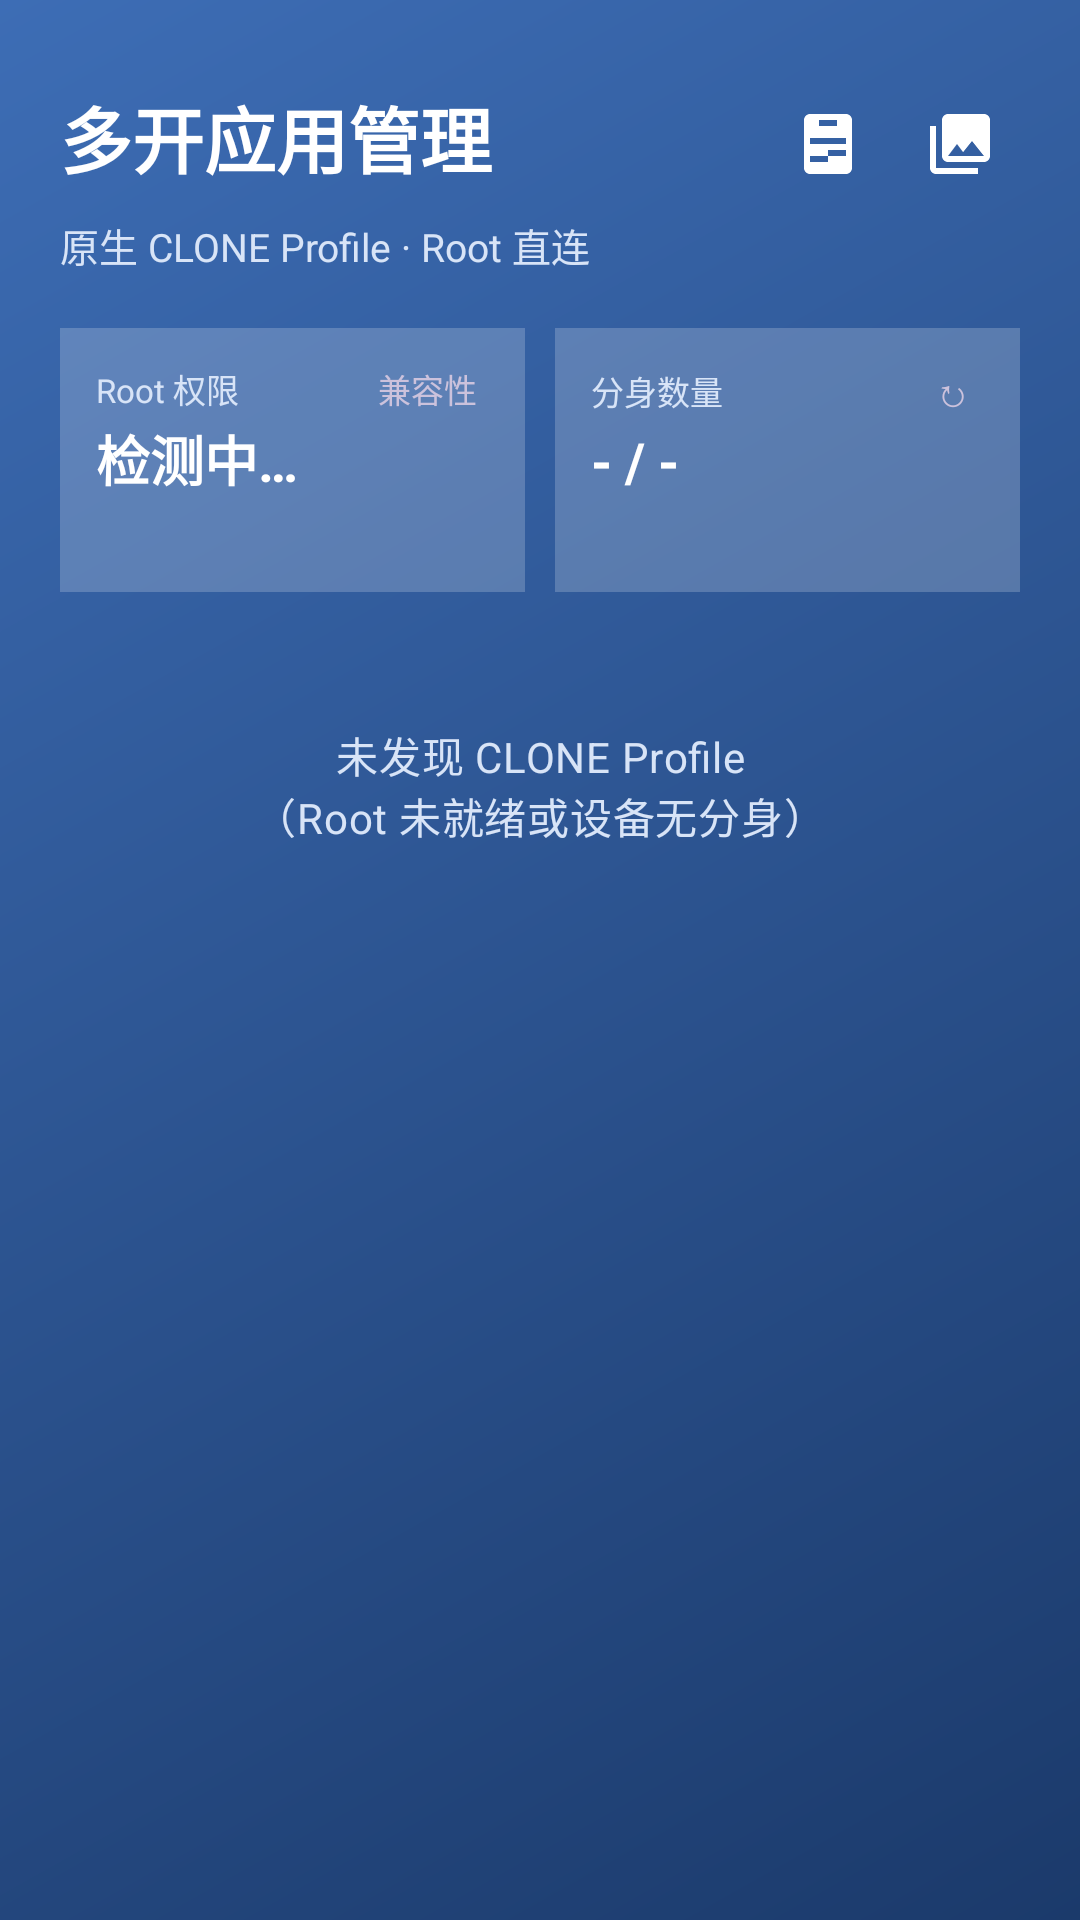

Point at icon controls on the screen. Image size 1080 × 1920, points as (x=x, y=y).
调试日志: (x=828, y=144)
